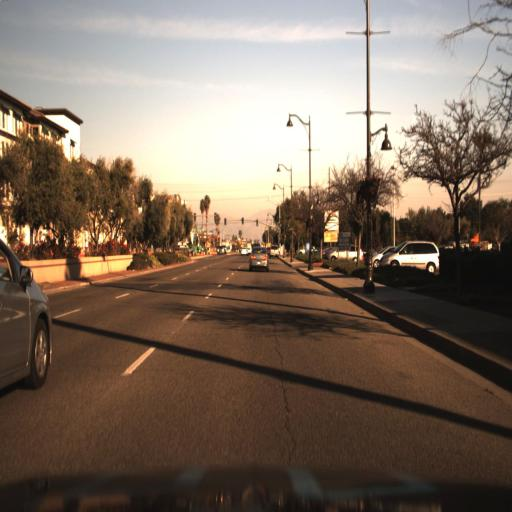car: (0, 205, 58, 403), (380, 234, 447, 278), (380, 240, 444, 272), (324, 237, 368, 271), (327, 236, 365, 269), (366, 242, 402, 271), (245, 244, 271, 275), (268, 240, 283, 262), (370, 251, 381, 273)
